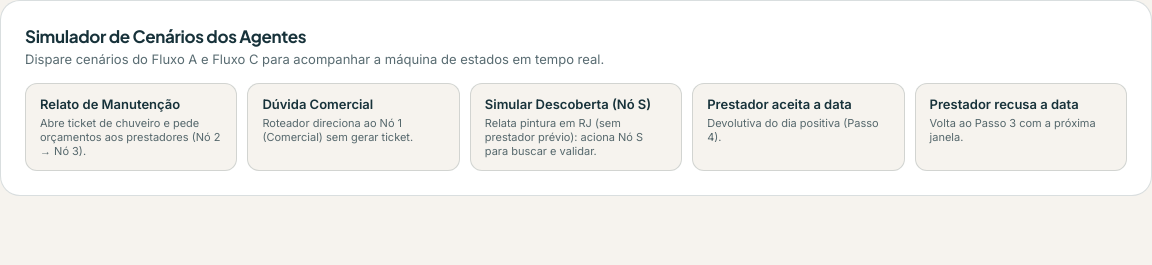
Test case: simulador do prestador › mostra o erro do backend quando a resposta é recusada
The width and height of the screenshot is (1152, 265).
What coordinates should you click on to do the following:
click the button "Prestador aceita a data"
I would click on:
 (798, 127)
Its box is [692,83,905,171].
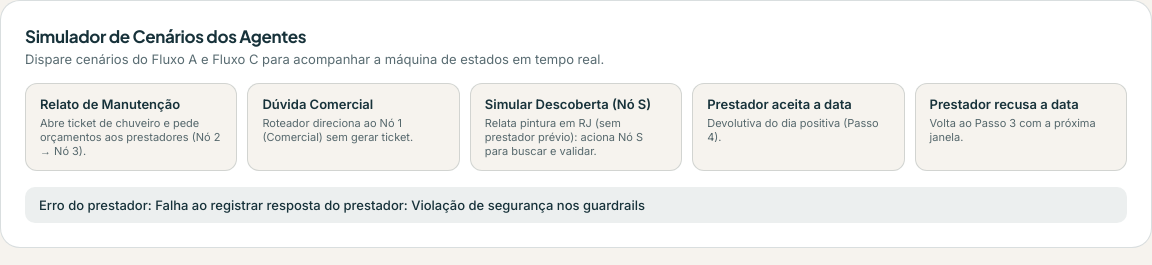
Result: the text "Violação de segurança" is shown at [39,197,645,213]
